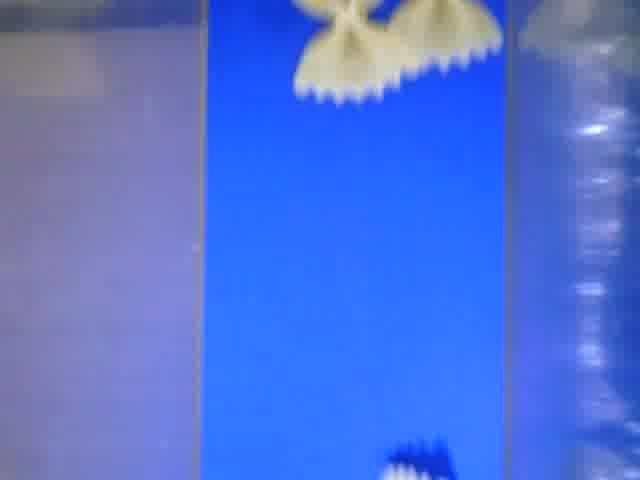farfalle: (290, 1, 416, 103), (388, 1, 505, 81)
